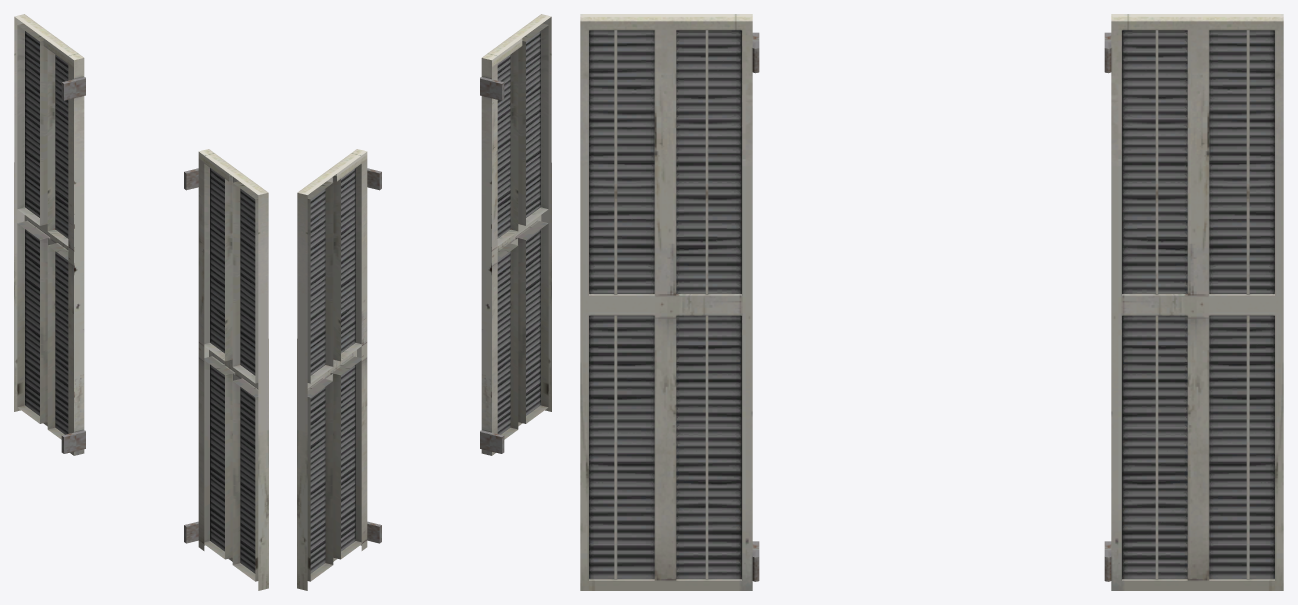
The model's file is shutters_96_open02.glb.
3 views of the same model, side by side, from view 1: azimuth 30°, elevation 25°; view 2: azimuth 150°, elevation 25°; view 3: azimuth 270°, elevation 25° (orthographic). The views are drawn at different scales.
Parts seen in each view (by area): view 1: shutters_96_open02; view 2: shutters_96_open02; view 3: shutters_96_open02.
Part boxes in pixels (x1,y1,x2,y2): shutters_96_open02: [14, 14, 268, 590]; shutters_96_open02: [297, 14, 551, 590]; shutters_96_open02: [580, 14, 1283, 590].
Bounding box in the file's own units: 0.1057 × 1.74 × 1.94.
Materials: 1 (1 with a texture image).
